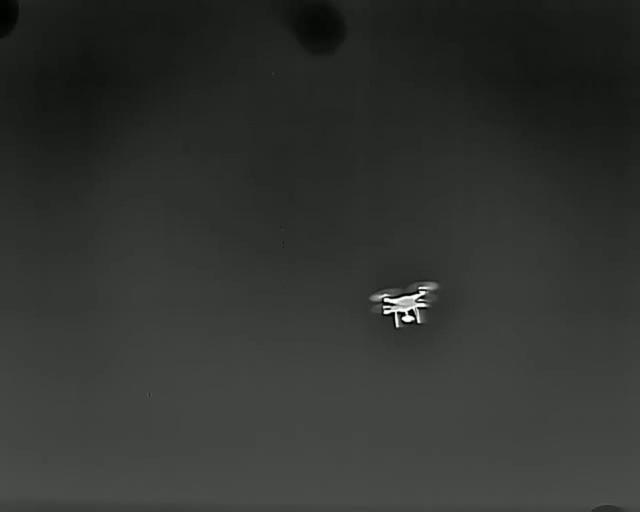DJI-Phantom: (369, 281, 438, 328)
